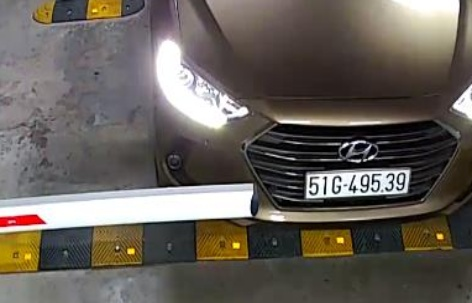plate: (300, 165, 413, 203)
